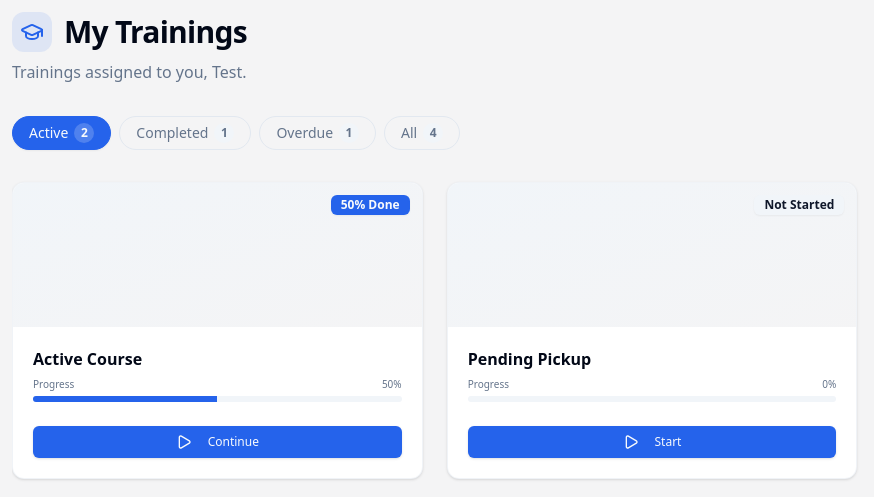
it: MyTrainings — filter pills › switching to Completed filter shows only completed trainings
Check: the heading "Active Course" is shown, box [33, 348, 142, 370]
Click the button "Completed 1": [185, 133] box [119, 116, 251, 150]
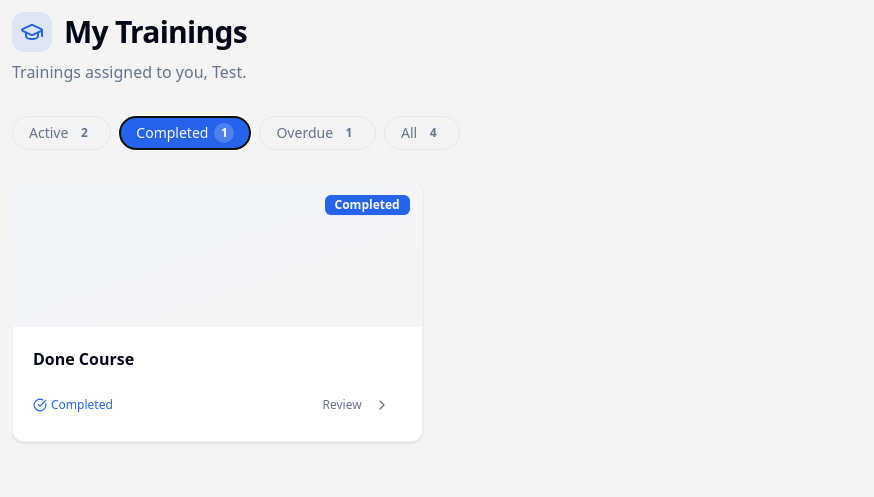
Check: the heading "Done Course" is shown, box [33, 348, 134, 370]
Check: the heading "Active Course" is gone
